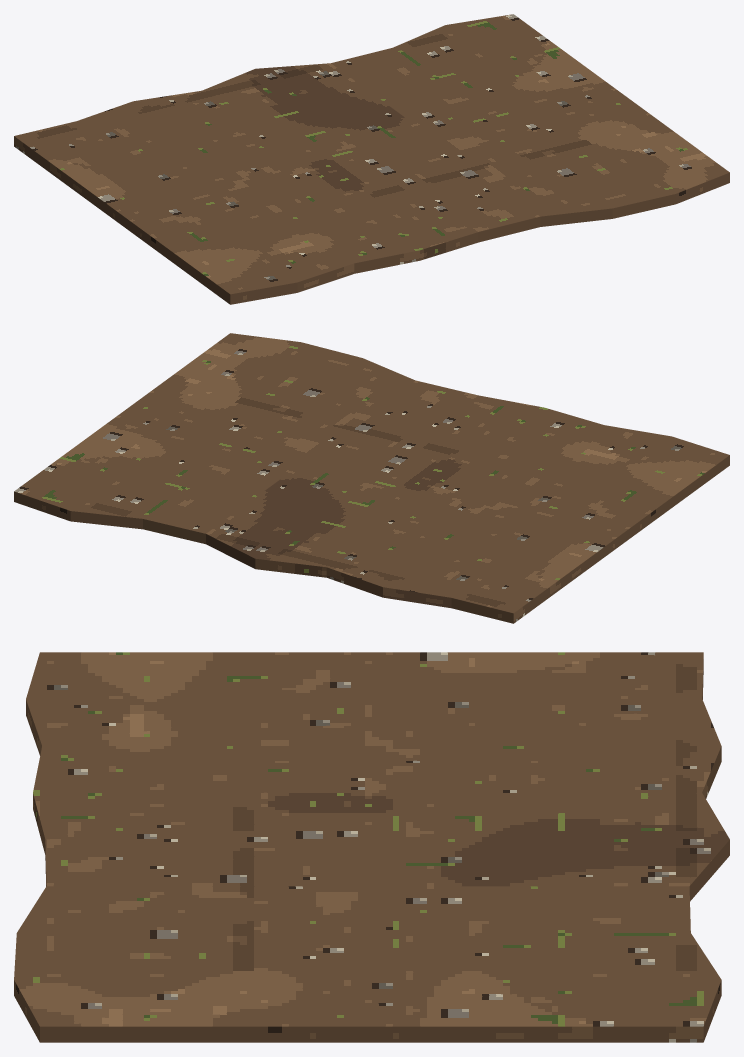
Rendered from MV_Road_Dirt_Straight_A.glb.
3 views of the same model, one above another, from view 1: azimuth 30°, elevation 25°; view 2: azimuth 150°, elevation 25°; view 3: azimuth 270°, elevation 25° (orthographic). The views are drawn at different scales.
Visible parts, largest first — view 1: MV_Road_Dirt_4m_Straight_A.MV_Road_Dirt_Straight_A; view 2: MV_Road_Dirt_4m_Straight_A.MV_Road_Dirt_Straight_A; view 3: MV_Road_Dirt_4m_Straight_A.MV_Road_Dirt_Straight_A.
Part boxes in pixels (bbox=[...]): MV_Road_Dirt_4m_Straight_A.MV_Road_Dirt_Straight_A: bbox=[14, 14, 729, 304]; MV_Road_Dirt_4m_Straight_A.MV_Road_Dirt_Straight_A: bbox=[14, 333, 729, 623]; MV_Road_Dirt_4m_Straight_A.MV_Road_Dirt_Straight_A: bbox=[14, 652, 729, 1042].
Bounding box in the file's own units: 4 × 0.08 × 3.24.
Materials: 1 (1 with a texture image).
